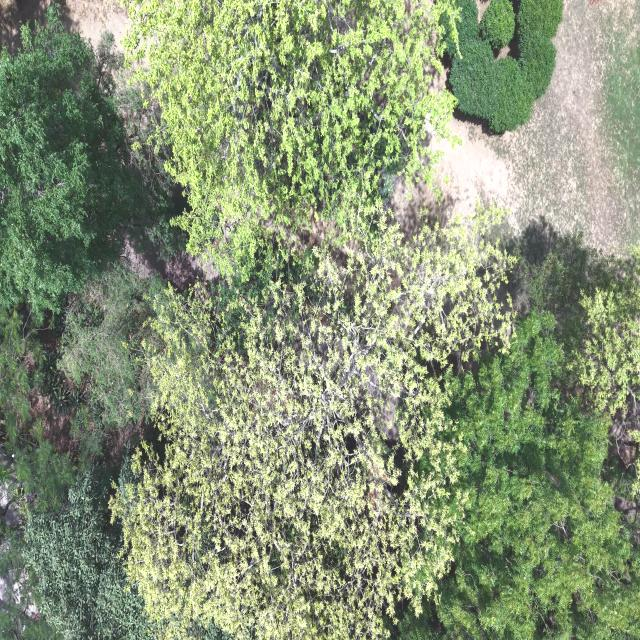DRY_AREA: (392, 0, 639, 253), (393, 0, 639, 253), (57, 0, 128, 51), (56, 0, 127, 50), (64, 0, 128, 50)
VEGETATION_TREE: (0, 0, 639, 639), (20, 210, 636, 637), (112, 210, 639, 638), (113, 211, 512, 639), (0, 6, 182, 638), (402, 238, 639, 639), (124, 0, 453, 271), (437, 312, 639, 637), (0, 268, 161, 639), (0, 314, 152, 639), (0, 7, 149, 315), (0, 309, 112, 638), (525, 237, 639, 533), (0, 310, 74, 639), (23, 466, 148, 639), (97, 32, 185, 260), (96, 32, 183, 258), (570, 250, 639, 531), (58, 266, 162, 430), (447, 0, 561, 132), (0, 310, 72, 503), (571, 250, 639, 414), (598, 27, 639, 238), (0, 526, 56, 639), (604, 35, 639, 201), (516, 0, 561, 99), (449, 39, 493, 118), (489, 57, 529, 132), (518, 34, 555, 99), (441, 0, 478, 58), (516, 0, 562, 40), (479, 0, 514, 50)
